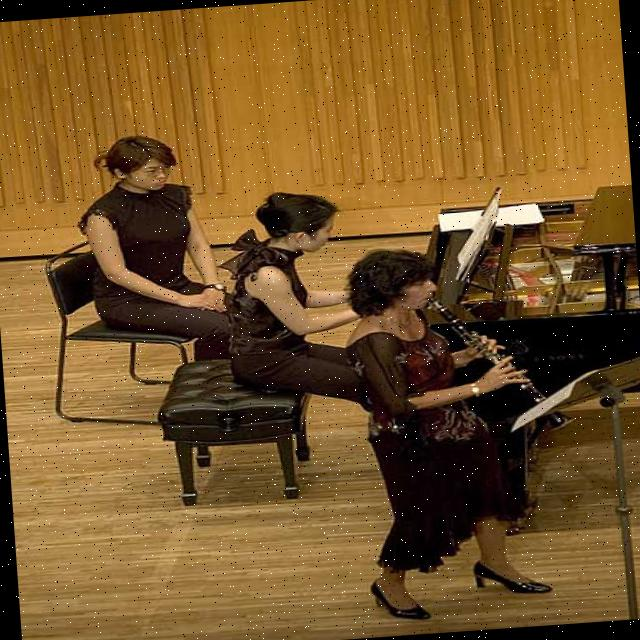clarinet: (426, 286, 581, 444)
